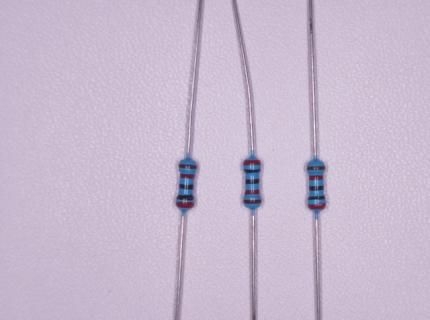Black band: (177, 194, 194, 201), (245, 178, 260, 185), (179, 184, 194, 190), (309, 185, 324, 191), (308, 196, 325, 200), (244, 169, 260, 173)
Brown band: (243, 199, 262, 204), (306, 166, 325, 171), (178, 164, 197, 169)
Red band: (176, 202, 194, 208), (308, 204, 326, 209), (245, 189, 259, 195), (309, 175, 323, 181), (244, 160, 260, 165), (180, 174, 194, 179)
